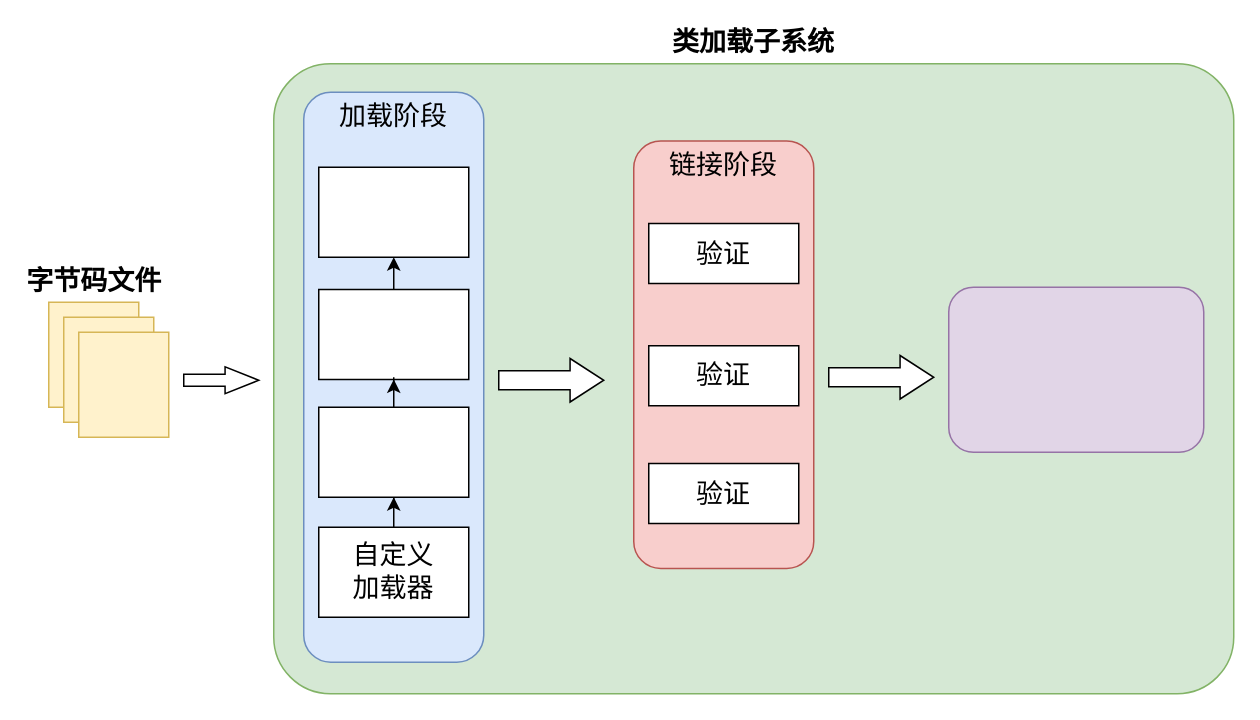
This 1260x720 diagram has some shape labels left out. Here are the shapes that lost their labels. From the top down, the centre of each, then its label:
the point at 393,211: 引导类 加载器
the point at 393,334: 扩展类 加载器
the point at 1075,369: 初始化
the point at 393,451: 系统类 加载器
